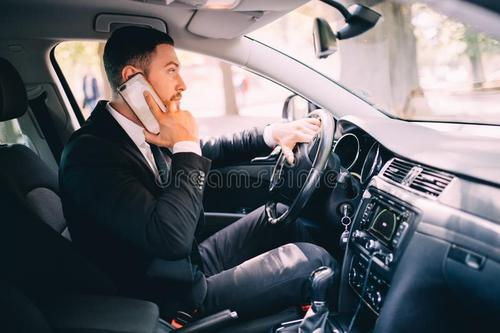phone: (112, 76, 171, 142)
talk: (117, 51, 208, 157)
